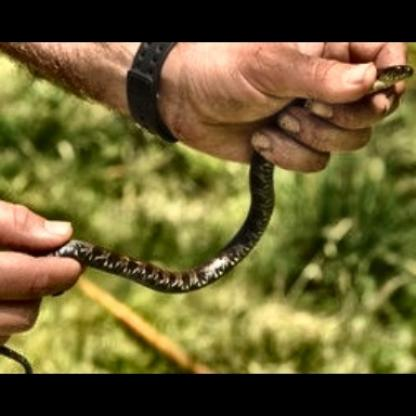Snake: (65, 122, 290, 301), (374, 56, 414, 93)
